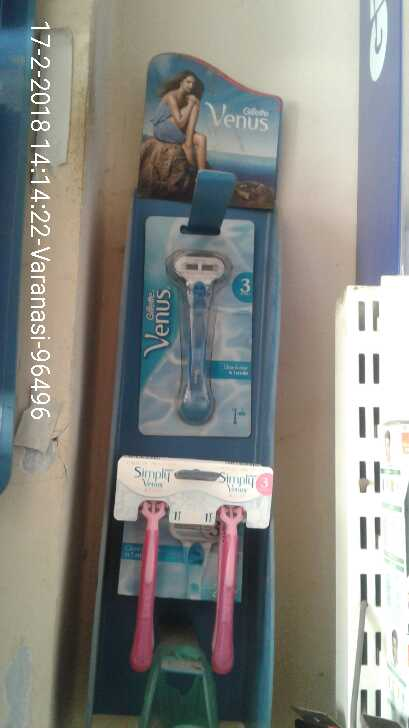venus: (139, 217, 254, 447)
